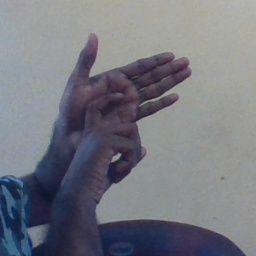R: (49, 33, 196, 176)
